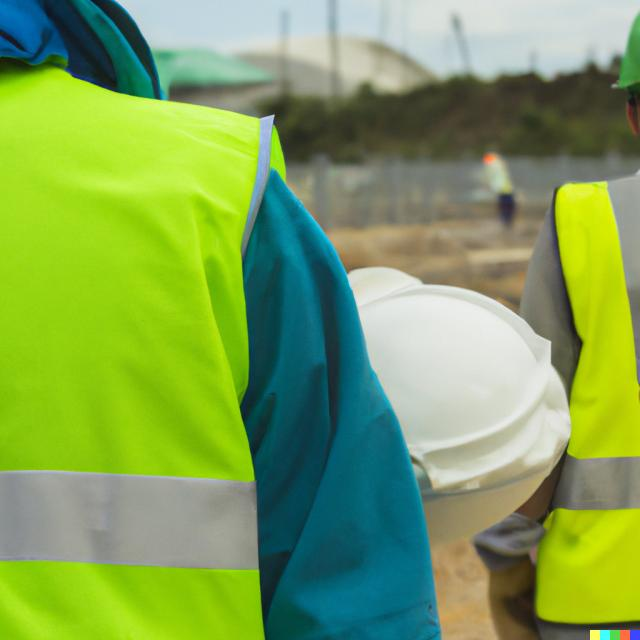Reflective-Jacket: (5, 10, 283, 640), (531, 160, 640, 631)
Safety-Helmet: (325, 252, 572, 537), (612, 1, 640, 98)
